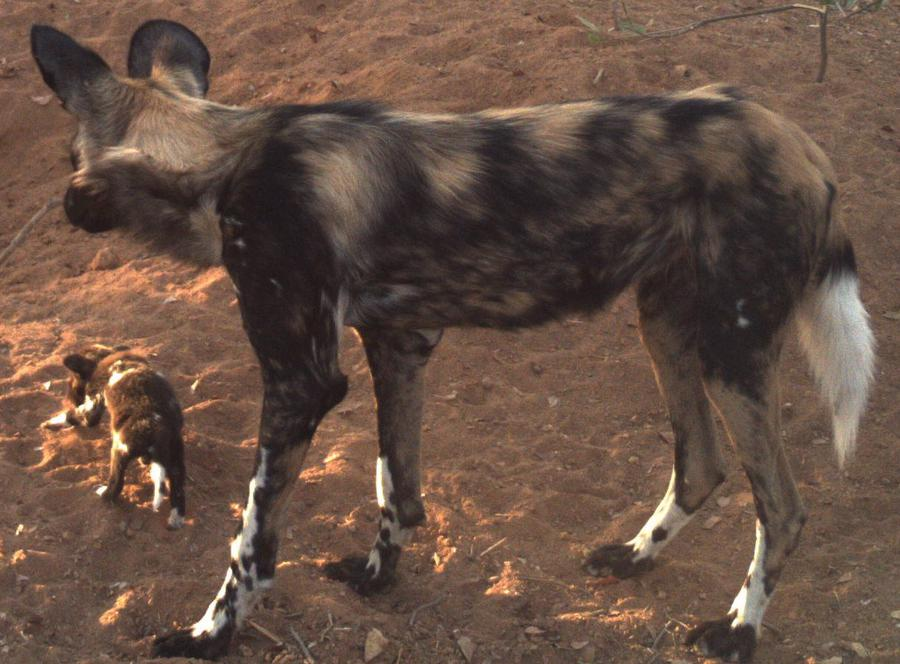wilddog: (116, 67, 813, 540)
